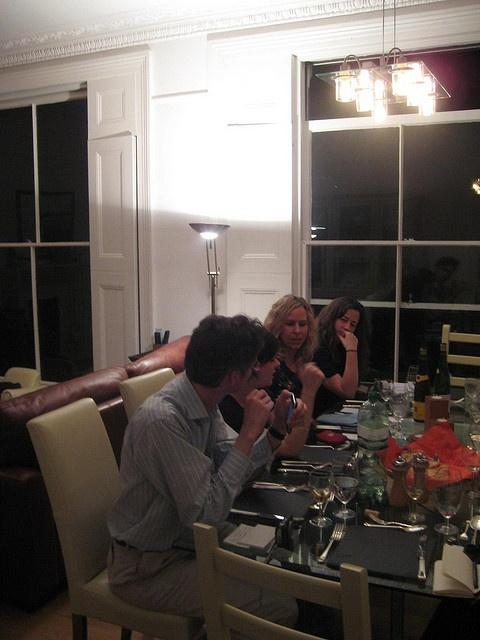Kursi: (26, 396, 193, 639)
